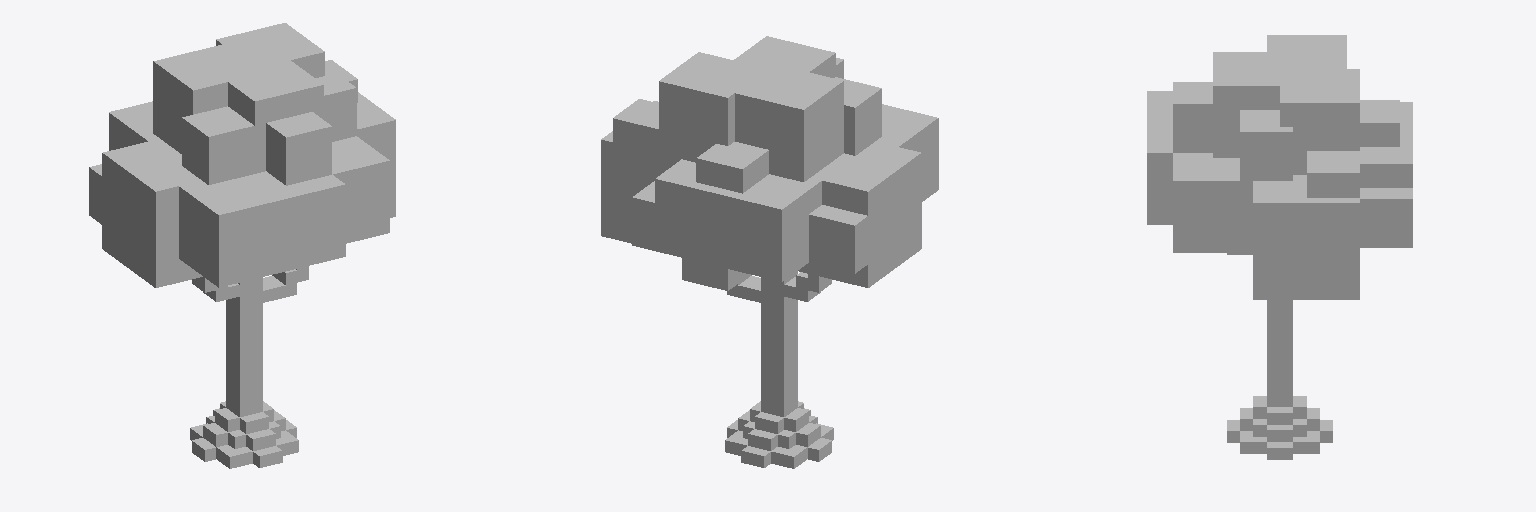
Rendered from tree3.obj.
3 views of the same model, side by side, from view 1: azimuth 30°, elevation 25°; view 2: azimuth 150°, elevation 25°; view 3: azimuth 270°, elevation 25° (orthographic).
Visible parts, largest first — view 1: object 1; view 2: object 1; view 3: object 1.
Boxes of the visible parts, box(x1,y1,x2,y2) form: object 1: box(89, 23, 395, 468); object 1: box(601, 36, 938, 468); object 1: box(1147, 35, 1412, 459).
Bounding box in the file's own units: 2.2 × 3.1 × 2.